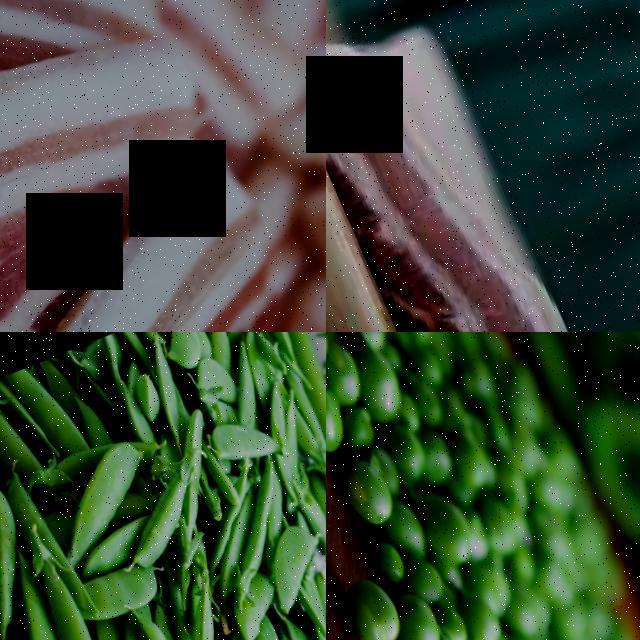peas: (326, 332, 598, 640)
pork belly: (326, 5, 589, 332), (0, 0, 233, 304), (0, 152, 326, 332)
